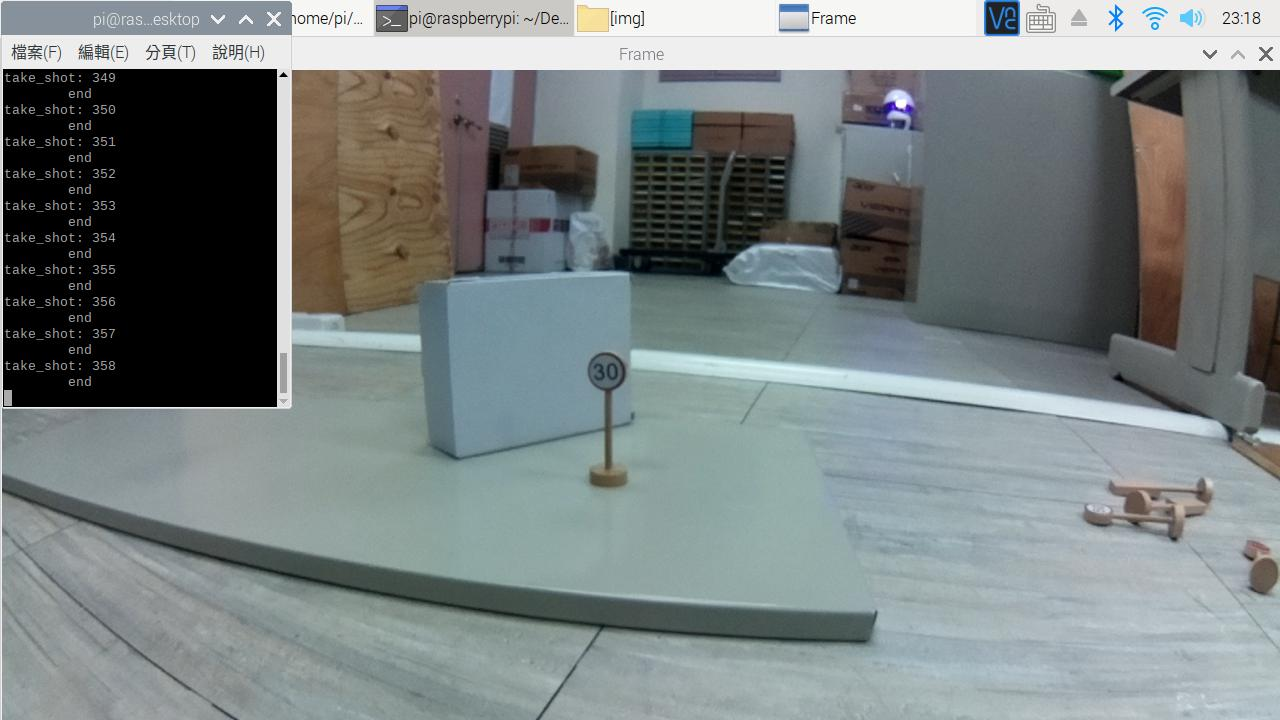Speed30: (573, 335, 655, 400)
